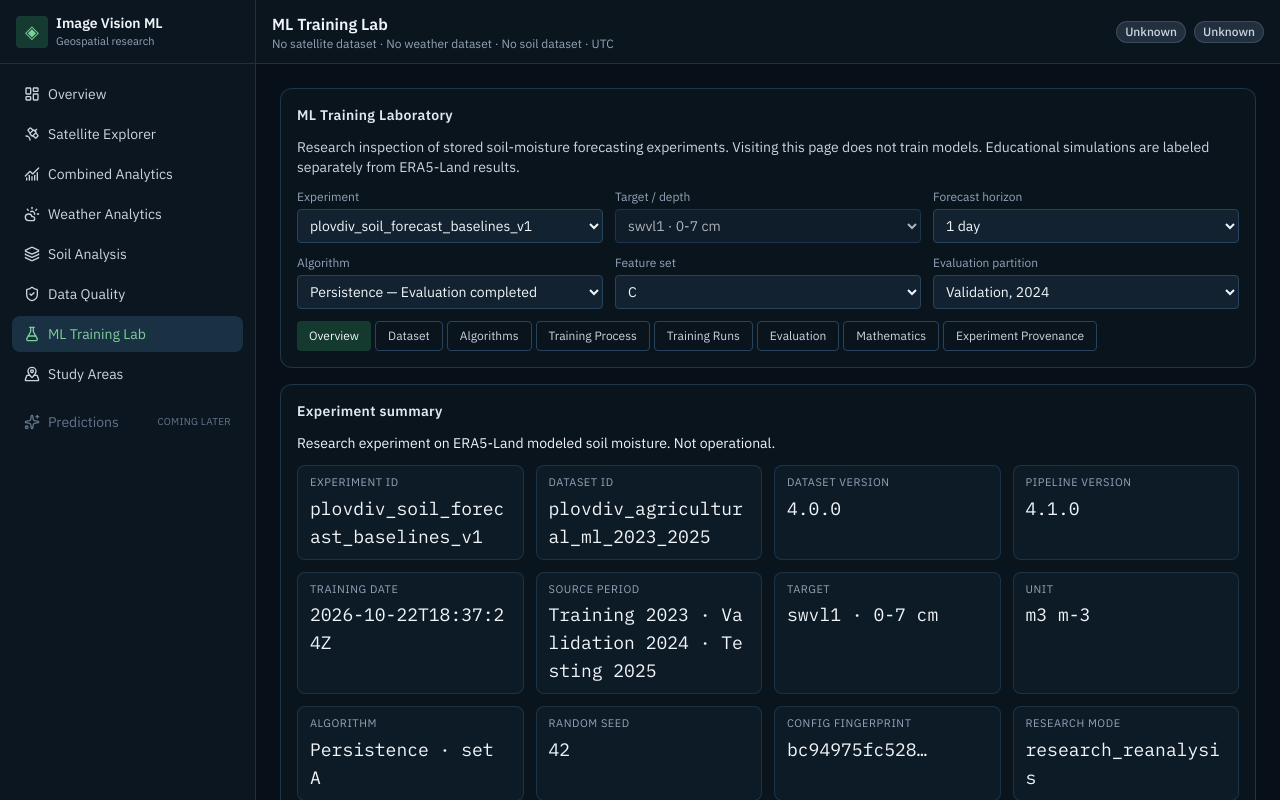
Test: ML Training Laboratory › shows a run API error with retry
The width and height of the screenshot is (1280, 800).
Check: the heading "Experiment summary" is shown, box left=297, top=401, right=443, bottom=421
Click the tab "Training Runs" at (703, 336), box left=654, top=321, right=753, bottom=351
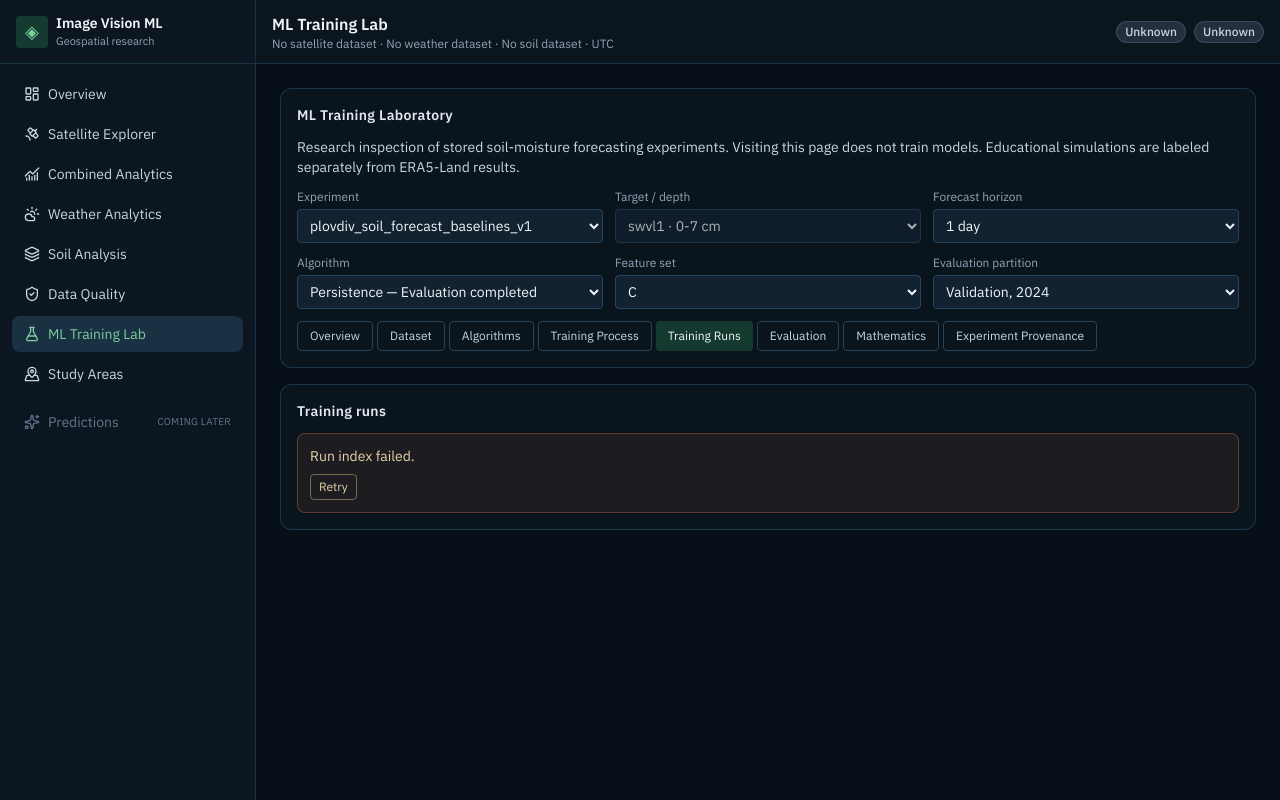
Check: the text "Run index failed." is shown, box left=310, top=447, right=415, bottom=465
